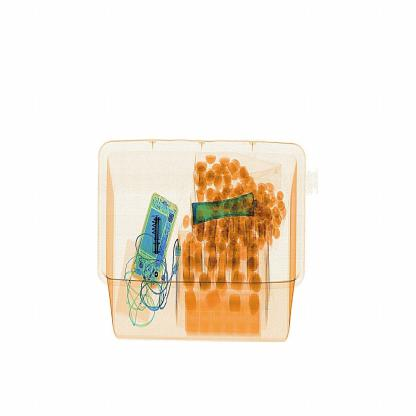scissors: (146, 201, 172, 257)
